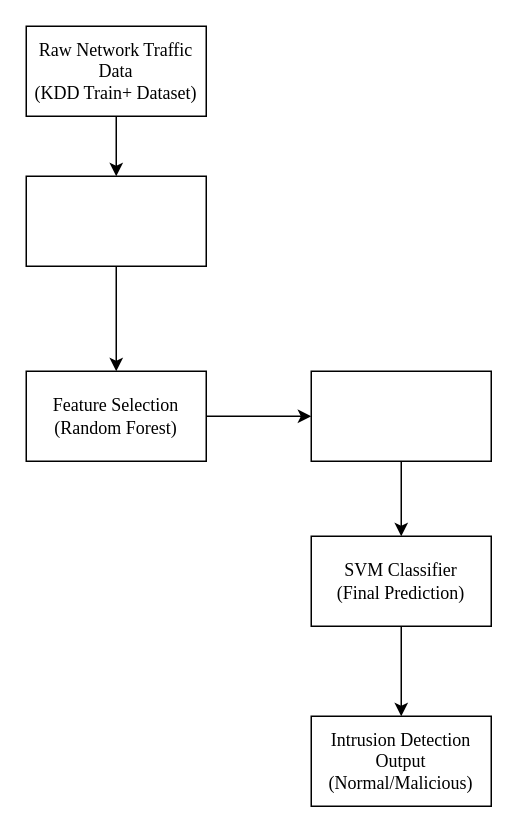
Image size: 518x833. Some labels were removed from this diagram. The shapes that lost their labels are listed below. From the top down, each one's centre as x and y in pixels, then its label:
[115,220]: Data Pre-processing (Missing Values, Encoding, Scaling)
[400,415]: LSTM Network (Sequential Pattern Learning)
